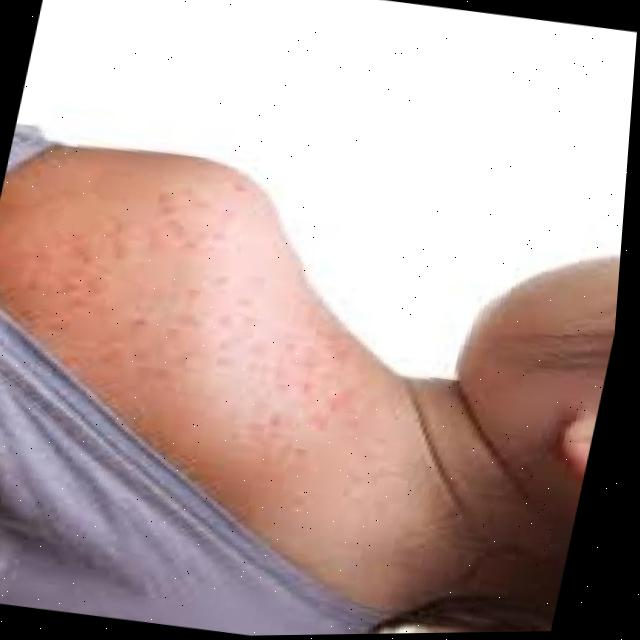Eczema: (30, 164, 406, 501)
